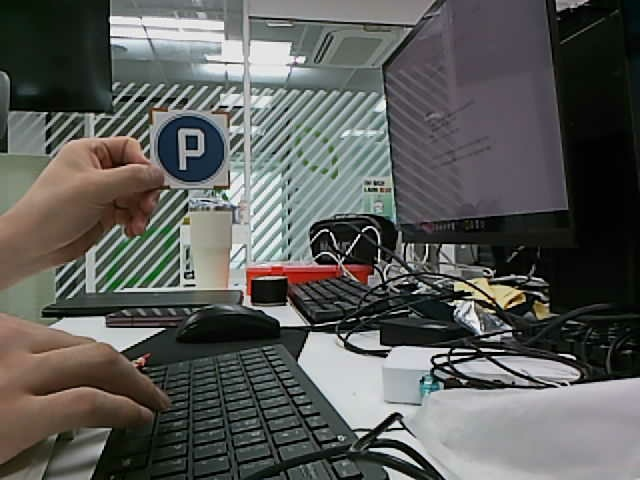park: (155, 113, 229, 186)
